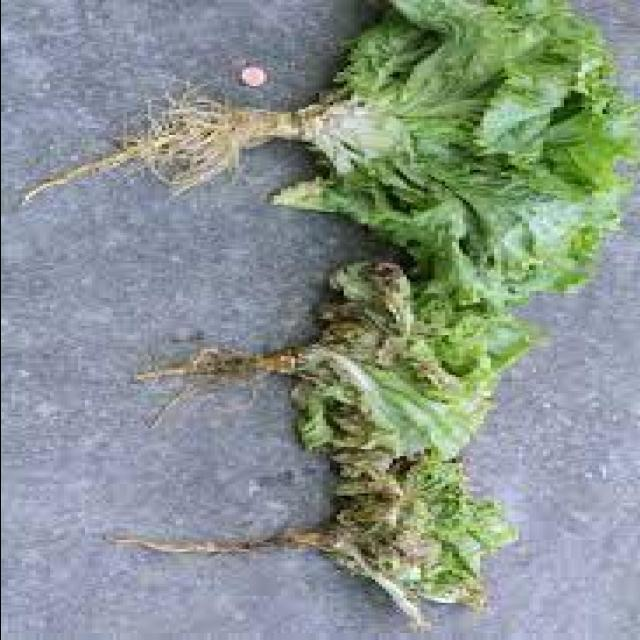Lettuce: (315, 0, 640, 310), (304, 262, 528, 468), (323, 452, 525, 632)
